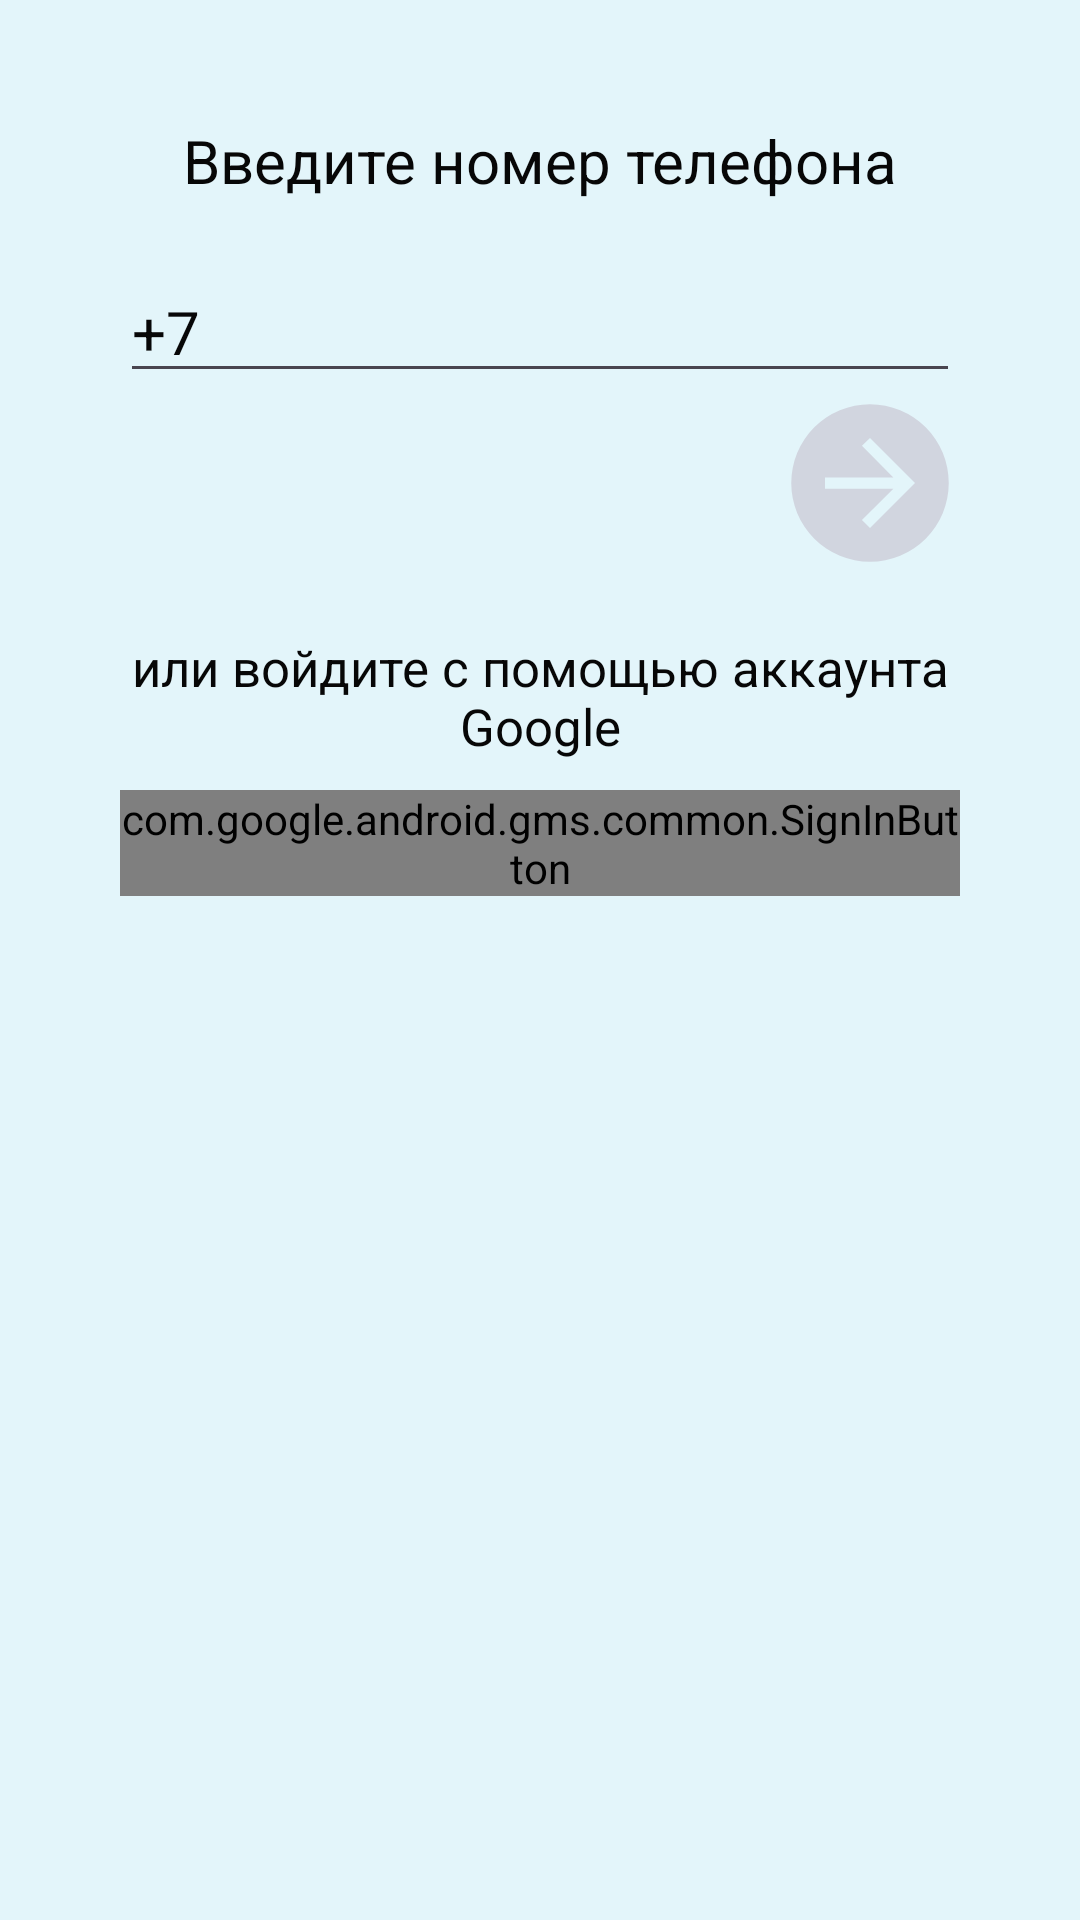

Point at icon controls on the screen. Image size 1080px x 1920px, points as [x,y].
next: [870,483]
